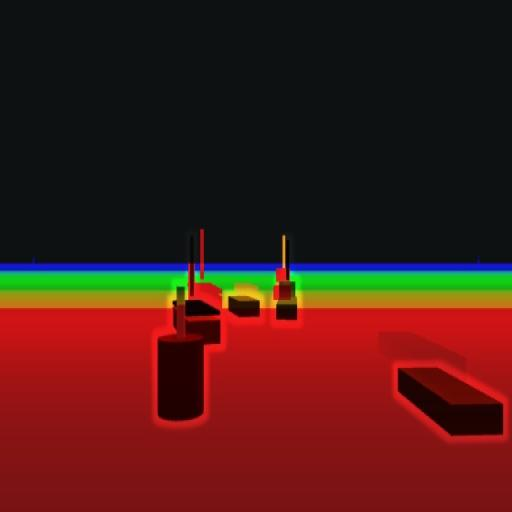debris_container: (396, 359, 506, 437), (228, 292, 260, 318)
fishing_boat: (273, 237, 299, 319)
floating_obstacle: (155, 285, 204, 423)
